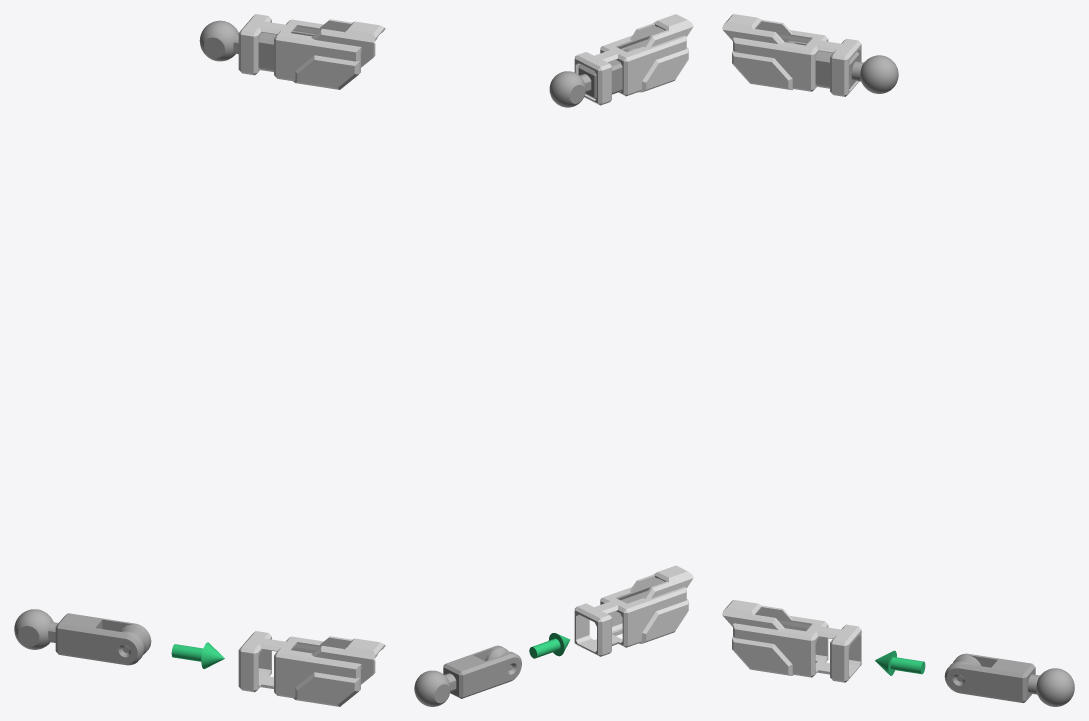
Rendered from lower_arm.glb.
3 views of the same model, side by side, from view 1: azimuth 90°, elevation 25°; view 2: azimuth 150°, elevation 25°; view 3: azimuth 270°, elevation 25° (orthographic). The views are drawn at different scales.
Visible parts, largest first — view 1: Body1.013, Body1.011, Body1.012, Body1.010, Arrow.002; view 2: Body1.013, Body1.011, Body1.012, Body1.010, Arrow.002; view 3: Body1.013, Body1.011, Body1.012, Body1.010, Arrow.002.
Boxes of the visible parts, box(x1,y1,x2,y2) form: Body1.013: box(238, 631, 385, 706); Body1.011: box(238, 14, 385, 89); Body1.012: box(14, 609, 151, 665); Body1.010: box(199, 20, 314, 70); Arrow.002: box(171, 642, 224, 668); Body1.013: box(574, 565, 693, 656); Body1.011: box(574, 14, 693, 105); Body1.012: box(414, 645, 521, 706); Body1.010: box(549, 46, 638, 107); Arrow.002: box(529, 633, 570, 658); Body1.013: box(722, 600, 861, 682); Body1.011: box(722, 14, 861, 96); Body1.012: box(944, 653, 1074, 706); Body1.010: box(785, 40, 898, 93); Arrow.002: box(875, 650, 925, 675).
Size of the model in its own units: 24.36 by 109 by 54.56.
